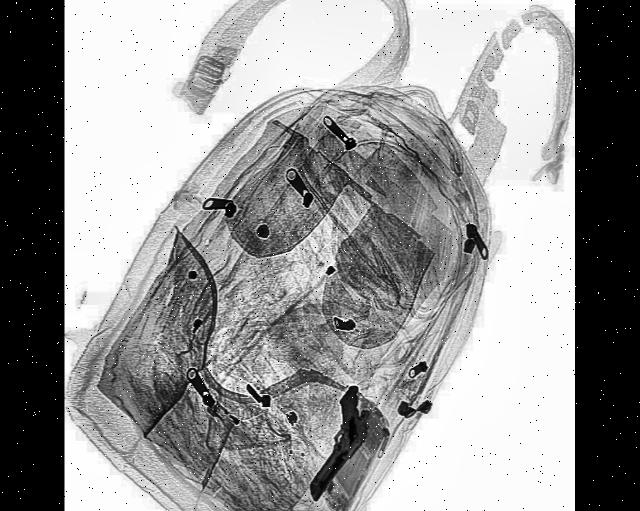Gun: (290, 378, 381, 508)
